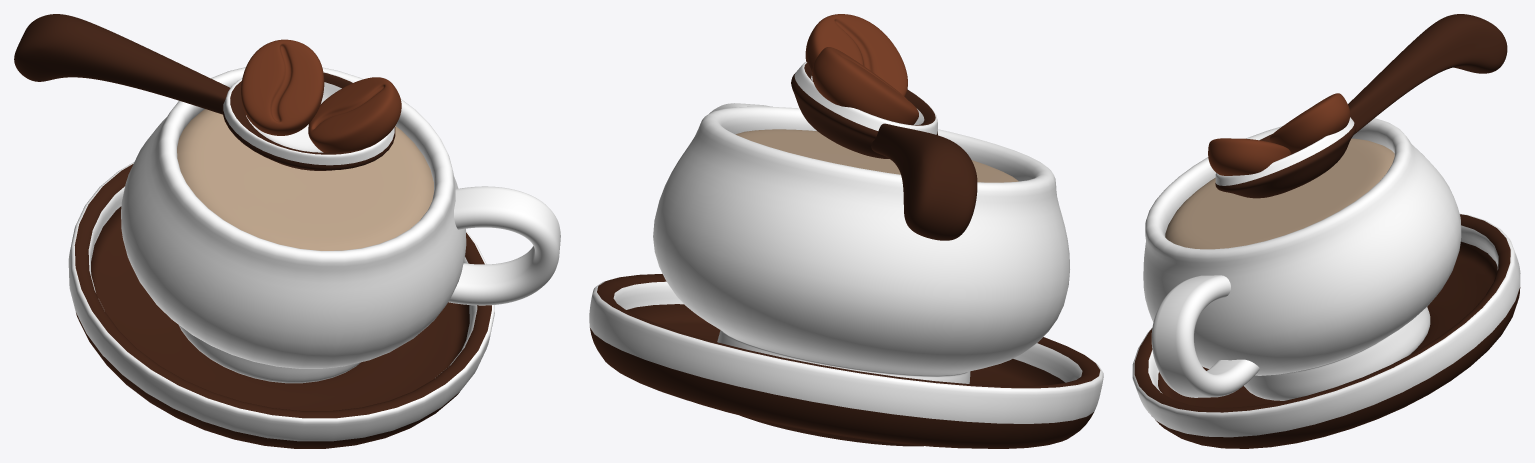
The model's file is cup.glb.
3 views of the same model, side by side, from view 1: azimuth 30°, elevation 25°; view 2: azimuth 150°, elevation 25°; view 3: azimuth 270°, elevation 25° (orthographic). The views are drawn at different scales.
Visible parts, largest first — view 1: Circle, Circle.001, Circle.023, Cube, NurbsPath, Cube.009, Cube.008, Circle.002; view 2: Circle, Circle.001, Cube, Circle.002, Cube.009, Cube.008, Circle.023; view 3: Circle, Circle.001, Circle.023, Cube, NurbsPath, Circle.002, Cube.009, Cube.008.
Boxes of the visible parts, left/top/right/bottom form: Circle: left=121, top=67, right=466, bottom=383; Circle.001: left=68, top=162, right=494, bottom=448; Circle.023: left=177, top=109, right=433, bottom=250; Cube: left=14, top=14, right=230, bottom=114; NurbsPath: left=448, top=186, right=560, bottom=305; Cube.009: left=241, top=39, right=324, bottom=135; Cube.008: left=308, top=77, right=401, bottom=152; Circle.002: left=222, top=72, right=395, bottom=170; Circle: left=653, top=106, right=1069, bottom=383; Circle.001: left=589, top=274, right=1103, bottom=448; Cube: left=871, top=123, right=977, bottom=240; Circle.002: left=791, top=61, right=937, bottom=158; Cube.009: left=812, top=47, right=918, bottom=124; Cube.008: left=805, top=14, right=907, bottom=96; Circle.023: left=735, top=129, right=1018, bottom=182; Circle: left=1143, top=118, right=1461, bottom=400; Circle.001: left=1132, top=213, right=1520, bottom=448; Circle.023: left=1165, top=138, right=1394, bottom=249; Cube: left=1348, top=14, right=1507, bottom=134; NurbsPath: left=1151, top=275, right=1259, bottom=397; Circle.002: left=1215, top=117, right=1356, bottom=198; Cube.009: left=1269, top=93, right=1350, bottom=154; Cube.008: left=1208, top=138, right=1290, bottom=175.
Size of the model in its own units: 4.99 by 4.24 by 4.6.
